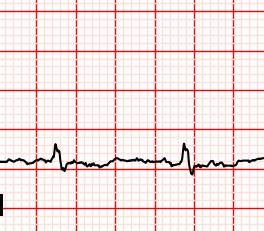Poor R Progression: (179, 140, 193, 168), (50, 141, 63, 164)
